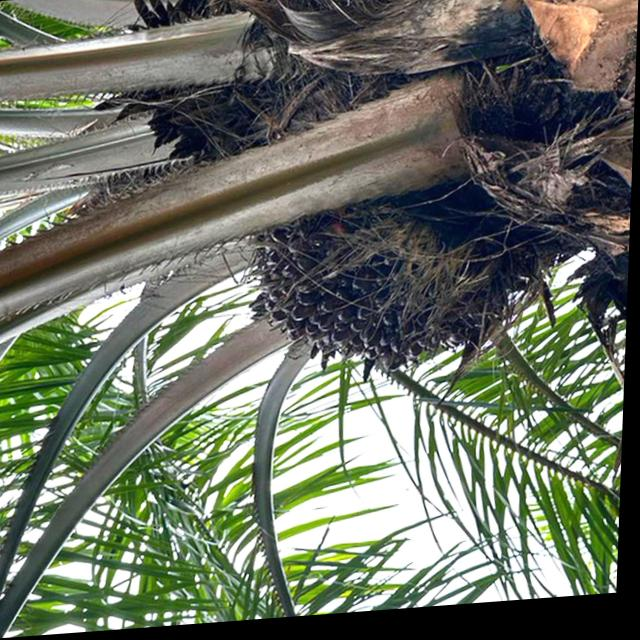ripe: (246, 193, 497, 377)
